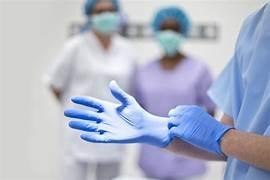Glove: (64, 81, 170, 146), (168, 105, 232, 154)
Mask: (155, 30, 183, 56), (91, 12, 119, 35)
